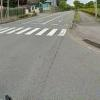crosswalks: (0, 25, 67, 38)
